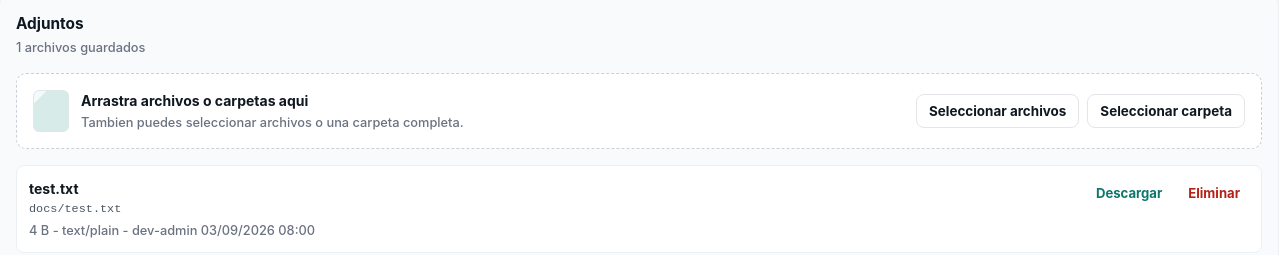
Test: ClaimAttachmentsComponent › deletes an attachment and refreshes the list
The width and height of the screenshot is (1279, 255).
Click the button "Eliminar".
click(1214, 193)  # box [1179,178,1249,208]
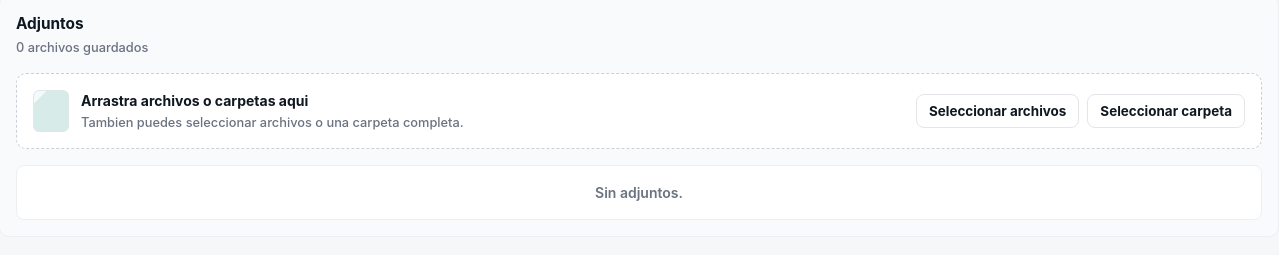
Expected: the text "Sin adjuntos." is shown, [16,165,1262,220]
